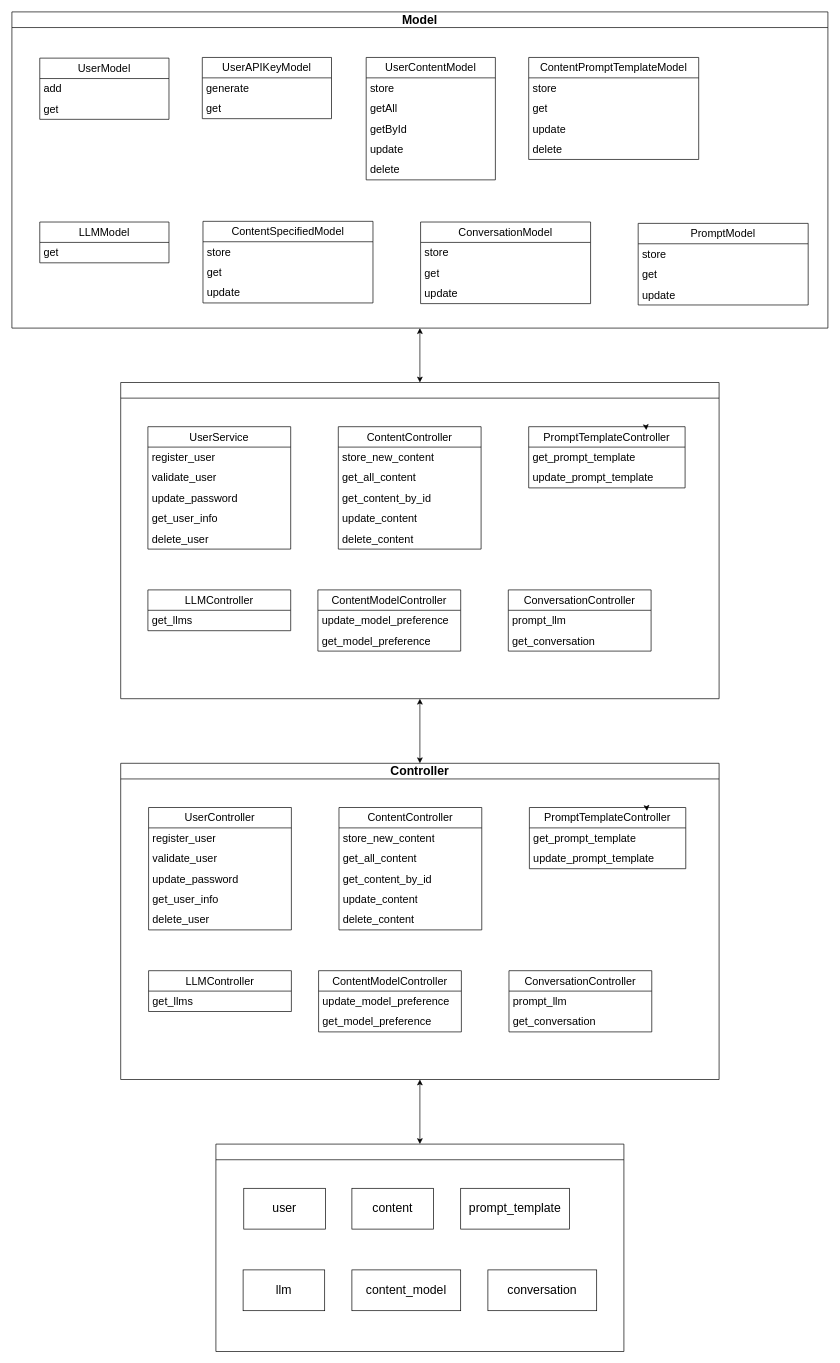
Image size: 840x1363. Some labels were removed from this diagram. Each missing label, with the box of its shape:
Service: (120, 382, 719, 699)
View: (215, 1143, 624, 1352)
